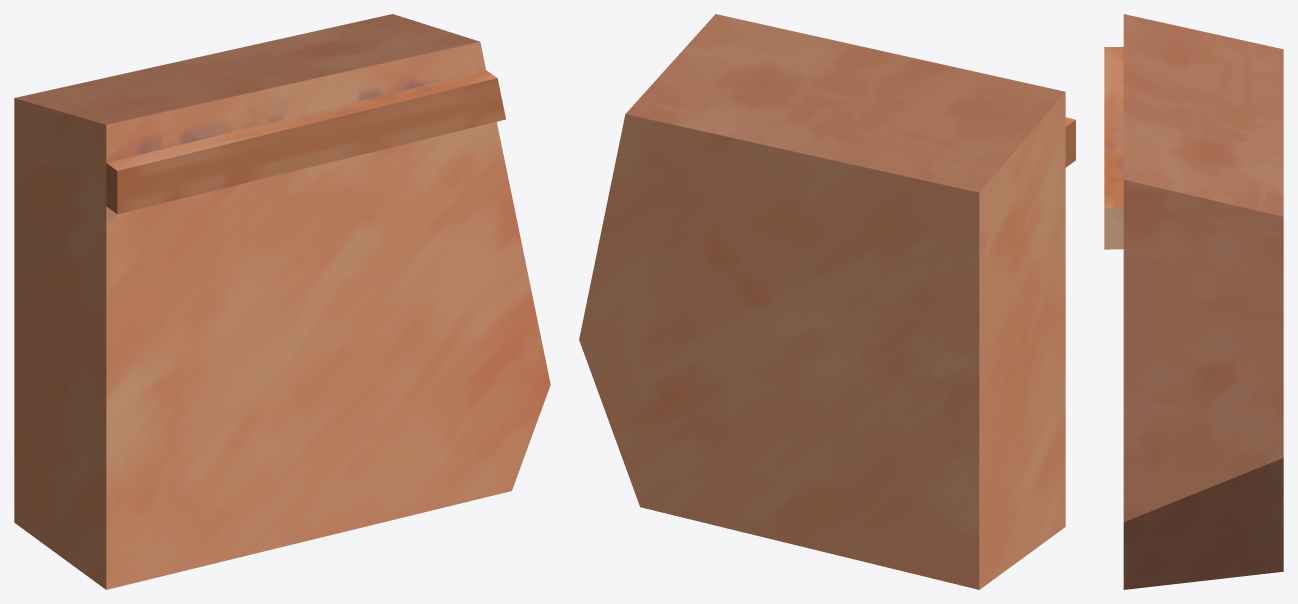
File: wall2_upper_s02.fbx
3 renders of one model, left to right at view 1: azimuth 30°, elevation 25°; view 2: azimuth 150°, elevation 25°; view 3: azimuth 270°, elevation 25°, orthographic. The views are drawn at different scales.
Parts seen in each view (by area): view 1: wall2_upper_s02; view 2: wall2_upper_s02; view 3: wall2_upper_s02.
Part boxes in pixels (<box>): wall2_upper_s02: <box>14,14,550,589</box>; wall2_upper_s02: <box>579,14,1075,589</box>; wall2_upper_s02: <box>1104,14,1283,589</box>.
Size of the model in its own units: 2.79 by 2.79 by 1.12.
